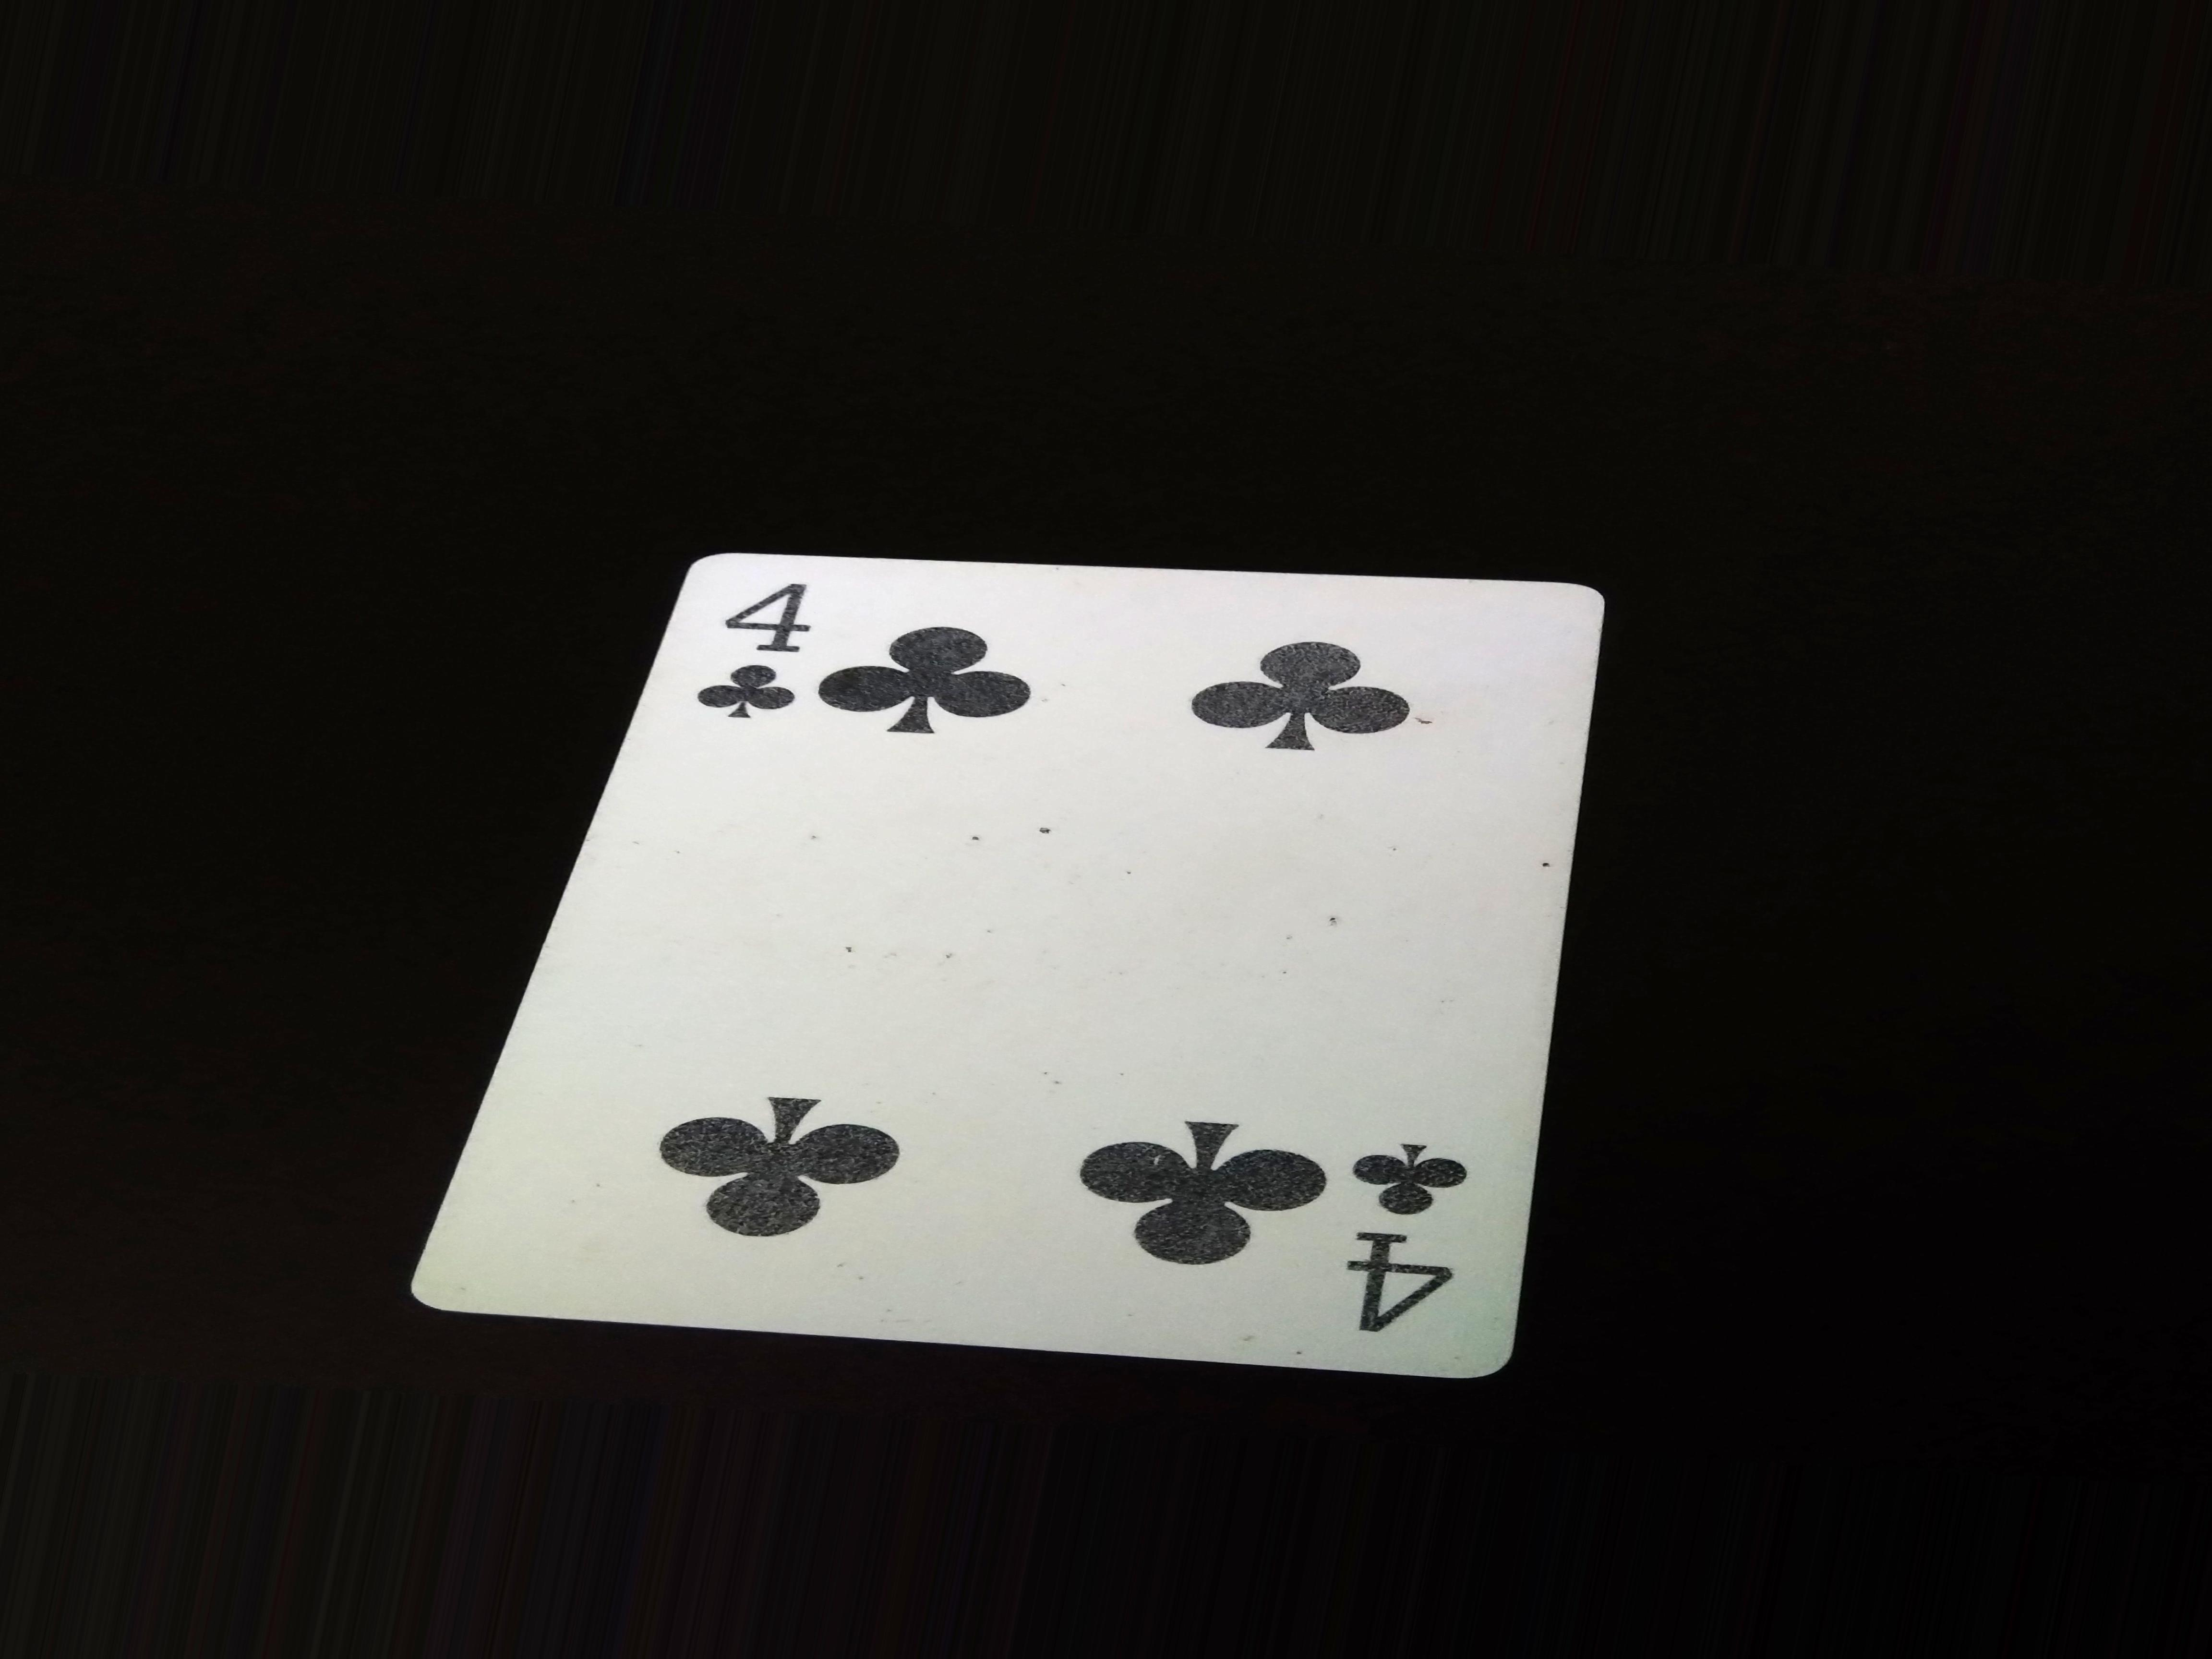4C: (707, 566, 822, 755)
